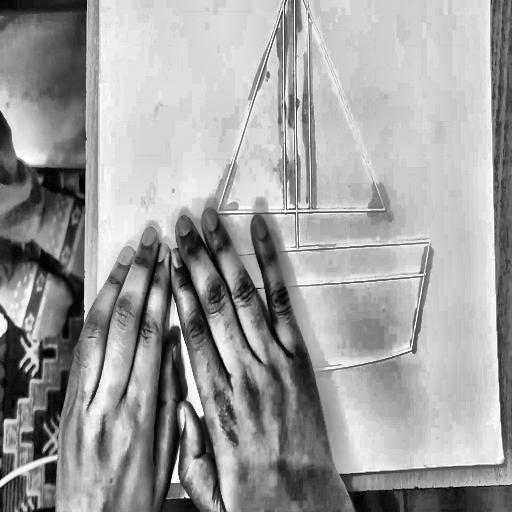boat: (163, 0, 437, 392)
bottom_right: (499, 451, 509, 469)
